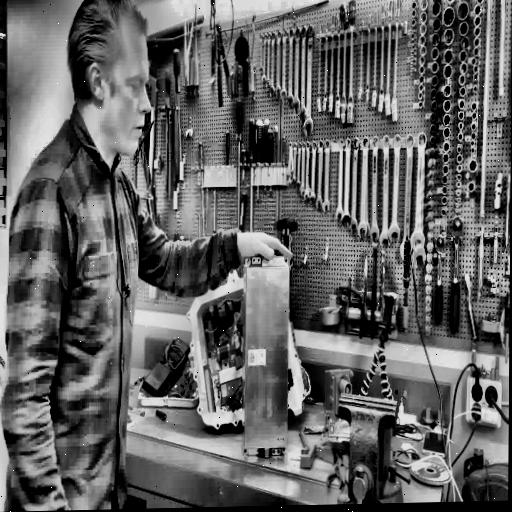battery_module: (245, 266, 288, 450)
